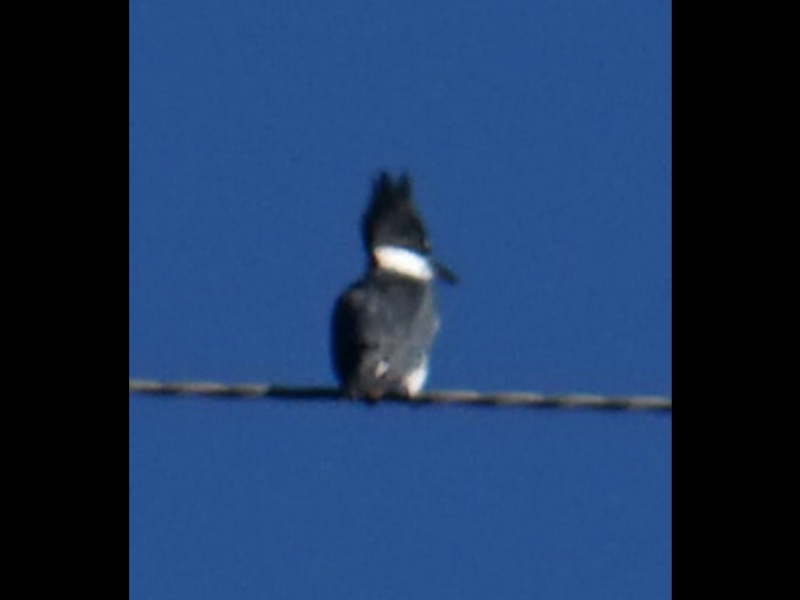kingfisher: (324, 168, 463, 405)
